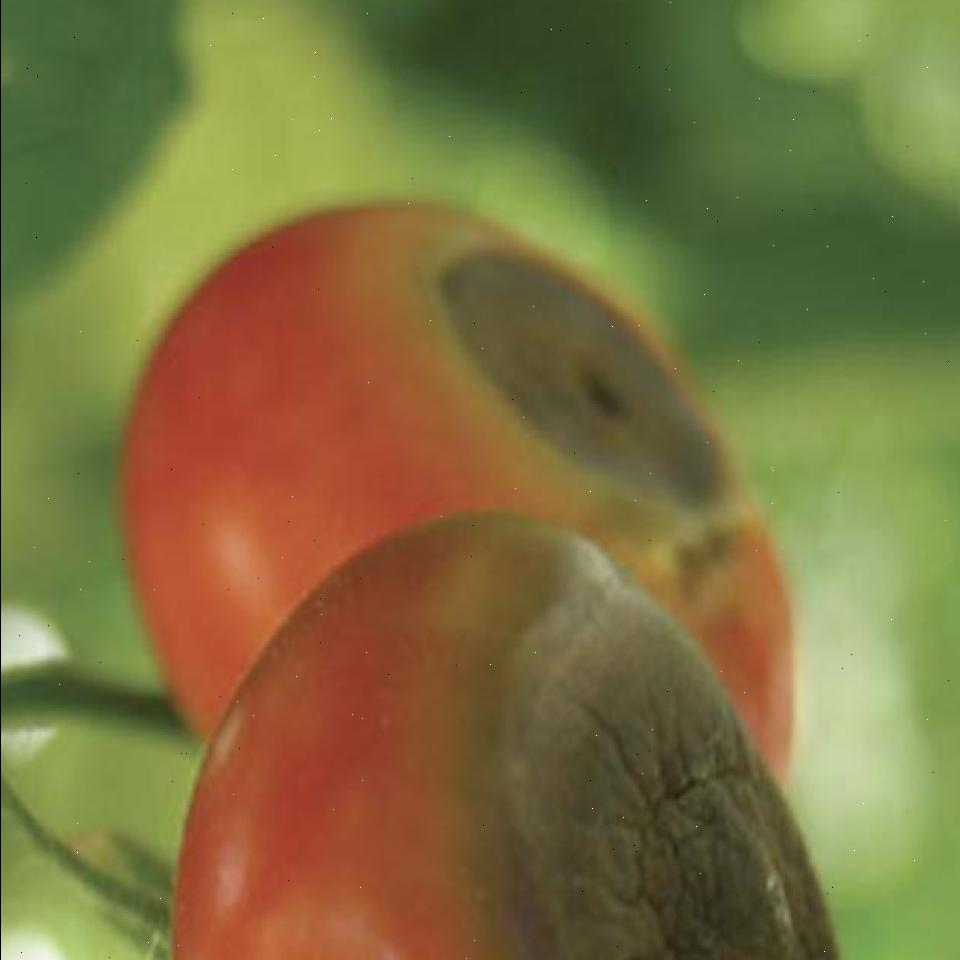Blossom_end_rot: (438, 568, 840, 960), (418, 224, 740, 518)
